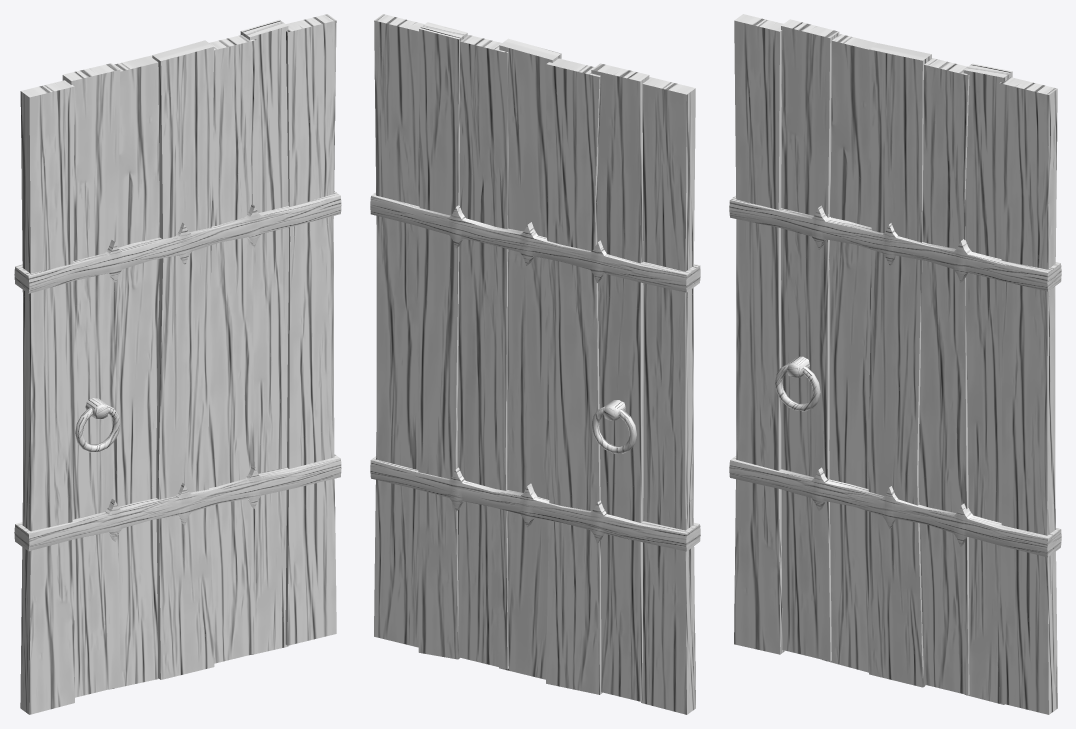
Rendered from ARC0110028.fbx.
3 views of the same model, side by side, from view 1: azimuth 30°, elevation 25°; view 2: azimuth 150°, elevation 25°; view 3: azimuth 330°, elevation 25° (orthographic).
Visible parts, largest first — view 1: smARC0110028; view 2: smARC0110028; view 3: smARC0110028.
Part boxes in pixels (box(x1,y1,x2,y2)): smARC0110028: box(14, 14, 341, 714); smARC0110028: box(370, 14, 700, 714); smARC0110028: box(729, 14, 1061, 714).
Size of the model in its own units: 129 by 245 by 20.14.
Materials: 1 (1 with a texture image).
